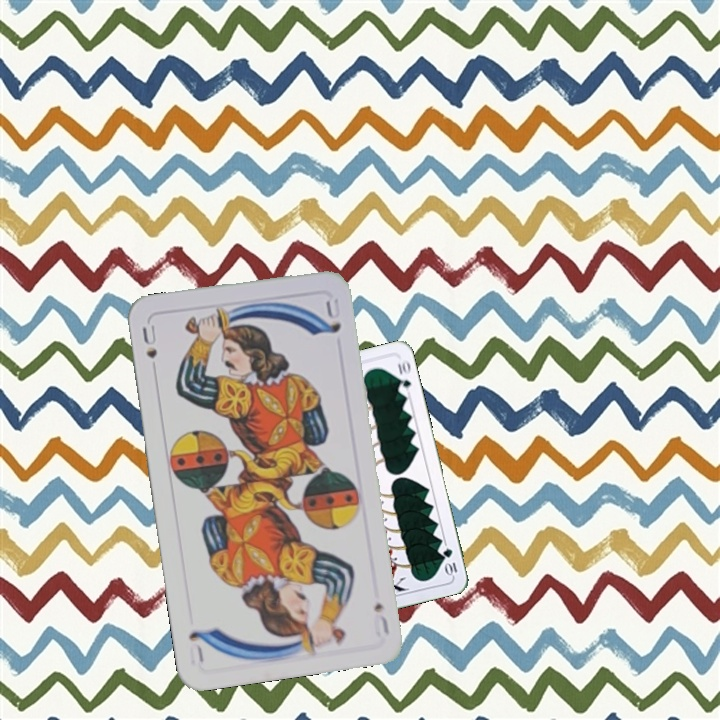G10: (439, 544, 460, 578)
SU: (369, 598, 392, 639), (138, 321, 160, 361)
